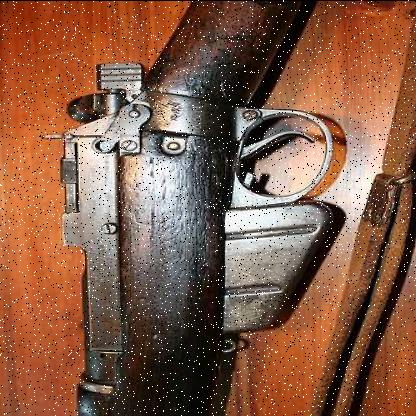rifle: (39, 14, 335, 416)
